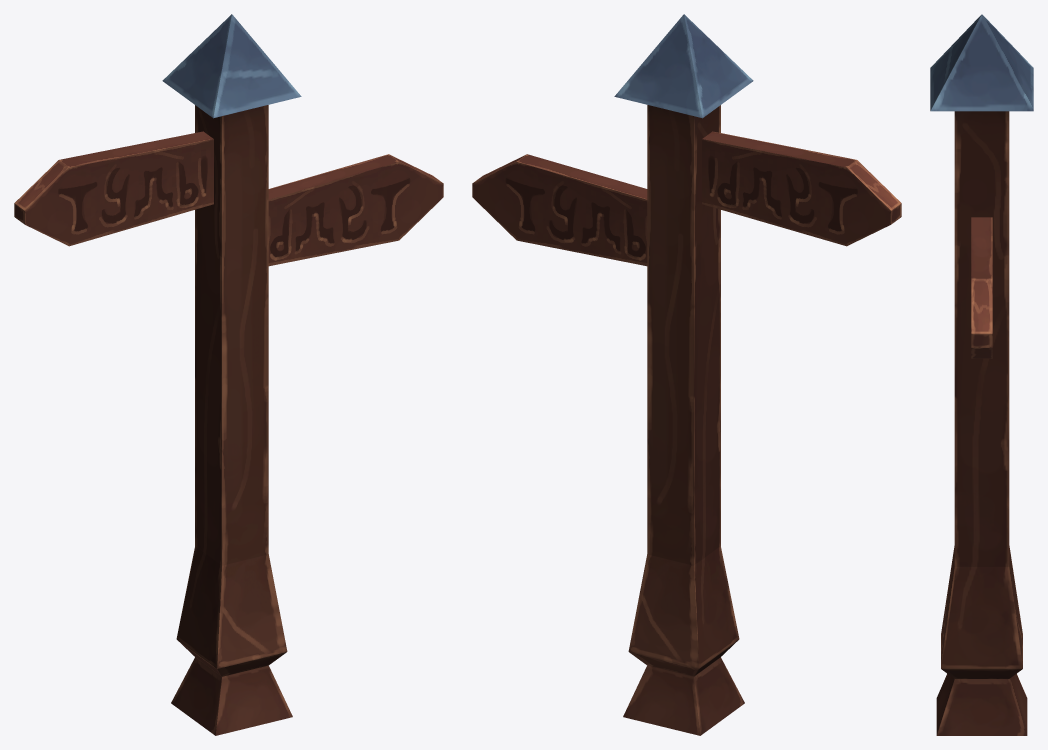
Rendered from road_sign_02.fbx.
The picture shows the model from 3 angles, left to right: view 1: azimuth 30°, elevation 25°; view 2: azimuth 150°, elevation 25°; view 3: azimuth 270°, elevation 25°; orthographic projection.
Parts seen in each view (by area): view 1: road_sign_02; view 2: road_sign_02; view 3: road_sign_02.
Boxes of the visible parts, left/top/right/bottom form: road_sign_02: left=14, top=14, right=443, bottom=735; road_sign_02: left=472, top=14, right=901, bottom=735; road_sign_02: left=930, top=14, right=1033, bottom=735.
Size of the model in its own units: 3.62 by 5.75 by 0.764.
